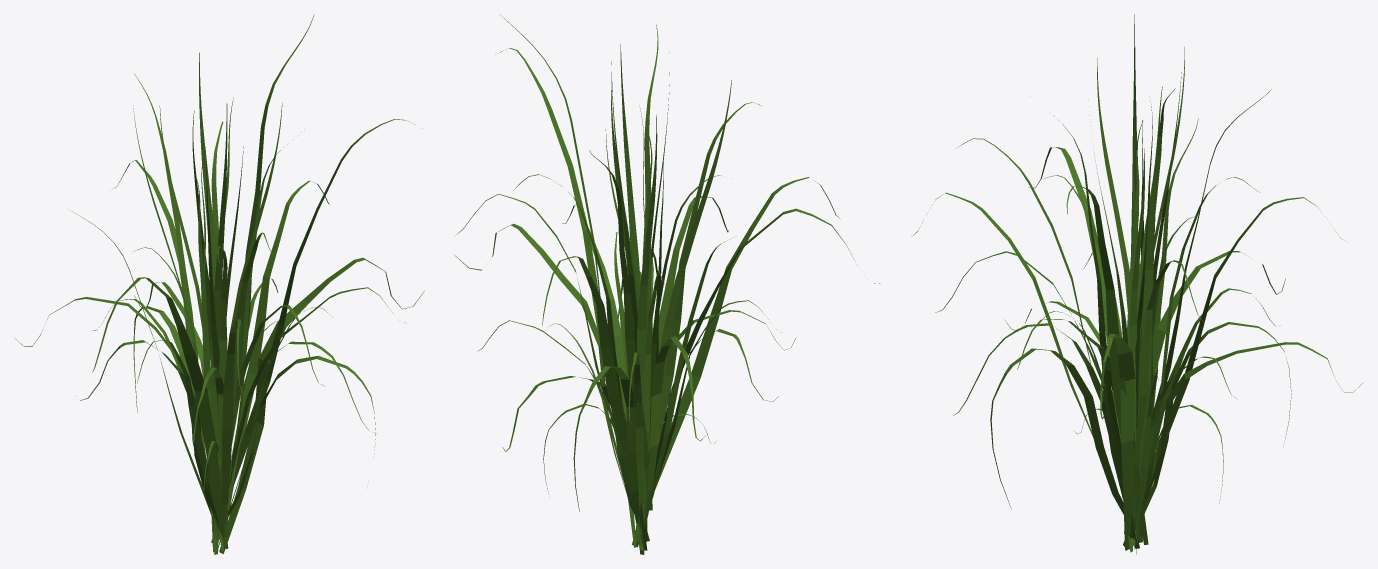
File: grass_finalFBX.fbx
3 views of the same model, side by side, from view 1: azimuth 30°, elevation 25°; view 2: azimuth 150°, elevation 25°; view 3: azimuth 270°, elevation 25° (orthographic). The views are drawn at different scales.
Visible parts, largest first — view 1: Plane.011; view 2: Plane.011; view 3: Plane.011.
Part boxes in pixels (bbox=[...]): Plane.011: bbox=[15, 14, 424, 554]; Plane.011: bbox=[453, 14, 880, 554]; Plane.011: bbox=[911, 14, 1363, 554].
Size of the model in its own units: 1012 by 1305 by 1021.
